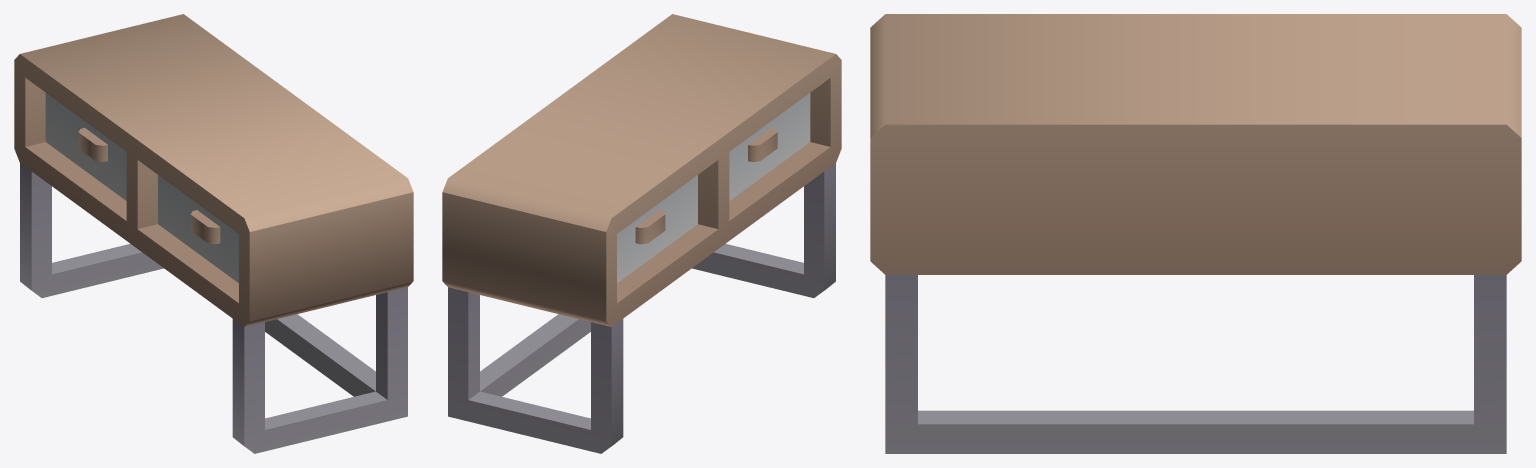
The model's file is sidetable-drawers-frame-square.glb.
3 views of the same model, side by side, from view 1: azimuth 30°, elevation 25°; view 2: azimuth 150°, elevation 25°; view 3: azimuth 270°, elevation 25° (orthographic). The views are drawn at different scales.
Parts seen in each view (by area): view 1: sidetable-drawers-frame-square; view 2: sidetable-drawers-frame-square; view 3: sidetable-drawers-frame-square.
Part boxes in pixels (x1,y1,x2,y2): sidetable-drawers-frame-square: [14, 14, 413, 453]; sidetable-drawers-frame-square: [442, 14, 841, 453]; sidetable-drawers-frame-square: [870, 14, 1521, 453].
Size of the model in its own units: 0.4 by 0.556 by 0.996.
